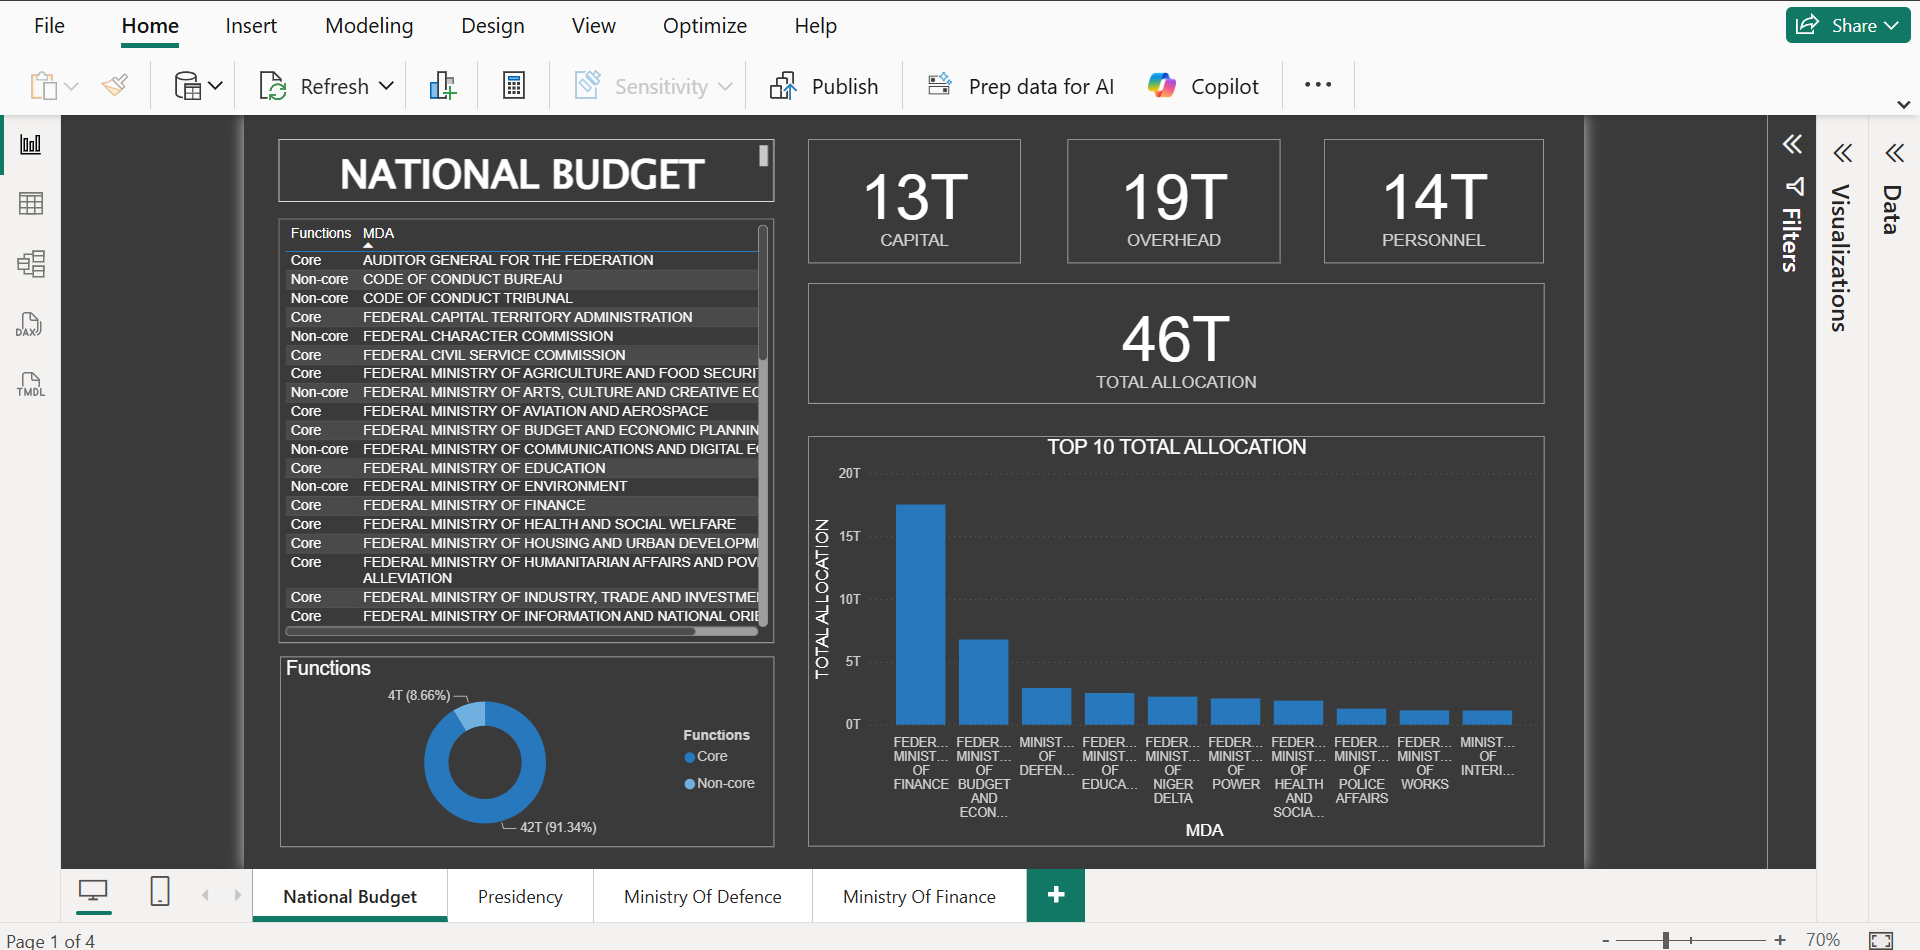

The page's visual inventory and layout, read from the dashboard file:
{"tool":"powerbi","page":{"name":"National Budget","canvas":[1280,720],"ordinal":0},"visuals":[{"type":"card","fields":{"Values":["Sum(NIGERIA PROPOSED BUDGET 2025.TOTAL ALLOCATION)"]},"box":[538.3,160,703.3,115],"z":0},{"type":"card","fields":{"Values":["Sum(NIGERIA PROPOSED BUDGET 2025.CAPITAL)"]},"box":[538.3,23.3,203.3,118.3],"z":1000},{"type":"card","fields":{"Values":["Sum(NIGERIA PROPOSED BUDGET 2025.OVERHEAD)"]},"box":[786.7,23.3,203.3,118.3],"z":2000},{"type":"card","fields":{"Values":["Sum(NIGERIA PROPOSED BUDGET 2025.PERSONNEL)"]},"box":[1031.7,23.3,210,118.3],"z":3000},{"type":"tableEx","fields":{"Values":["NIGERIA PROPOSED BUDGET 2025.Functions","NIGERIA PROPOSED BUDGET 2025.MDA"]},"box":[33.3,98.3,473.3,405],"z":4000},{"type":"donutChart","title":"Functions","fields":{"Category":["NIGERIA PROPOSED BUDGET 2025.Functions"],"Y":["Sum(NIGERIA PROPOSED BUDGET 2025.TOTAL ALLOCATION)"]},"box":[35,516.7,471.7,181.7],"z":5000},{"type":"clusteredColumnChart","title":"TOP 10 TOTAL ALLOCATION","fields":{"Y":["Sum(NIGERIA PROPOSED BUDGET 2025.TOTAL ALLOCATION)"],"Category":["NIGERIA PROPOSED BUDGET 2025.MDA"]},"box":[538.3,306.7,703.3,391.7],"z":6000},{"type":"textbox","box":[33.3,23.3,473.3,60],"z":7000}]}

Visuals, with their boxes on the page's 1280x720 design canvas (x1, y1, x2, y2). These are canvas units, not pixel positions in the 1920x950 screenshot, which may show the page scaled, cropped or inside an application window:
card - Sum(NIGERIA PROPOSED BUDGET 2025.TOTAL ALLOCATION): 538, 160, 1242, 275
card - Sum(NIGERIA PROPOSED BUDGET 2025.CAPITAL): 538, 23, 742, 142
card - Sum(NIGERIA PROPOSED BUDGET 2025.OVERHEAD): 787, 23, 990, 142
card - Sum(NIGERIA PROPOSED BUDGET 2025.PERSONNEL): 1032, 23, 1242, 142
tableEx - NIGERIA PROPOSED BUDGET 2025.Functions x NIGERIA PROPOSED BUDGET 2025.MDA: 33, 98, 507, 503
"Functions" donutChart: 35, 517, 507, 698
"TOP 10 TOTAL ALLOCATION" clusteredColumnChart: 538, 307, 1242, 698
textbox: 33, 23, 507, 83
